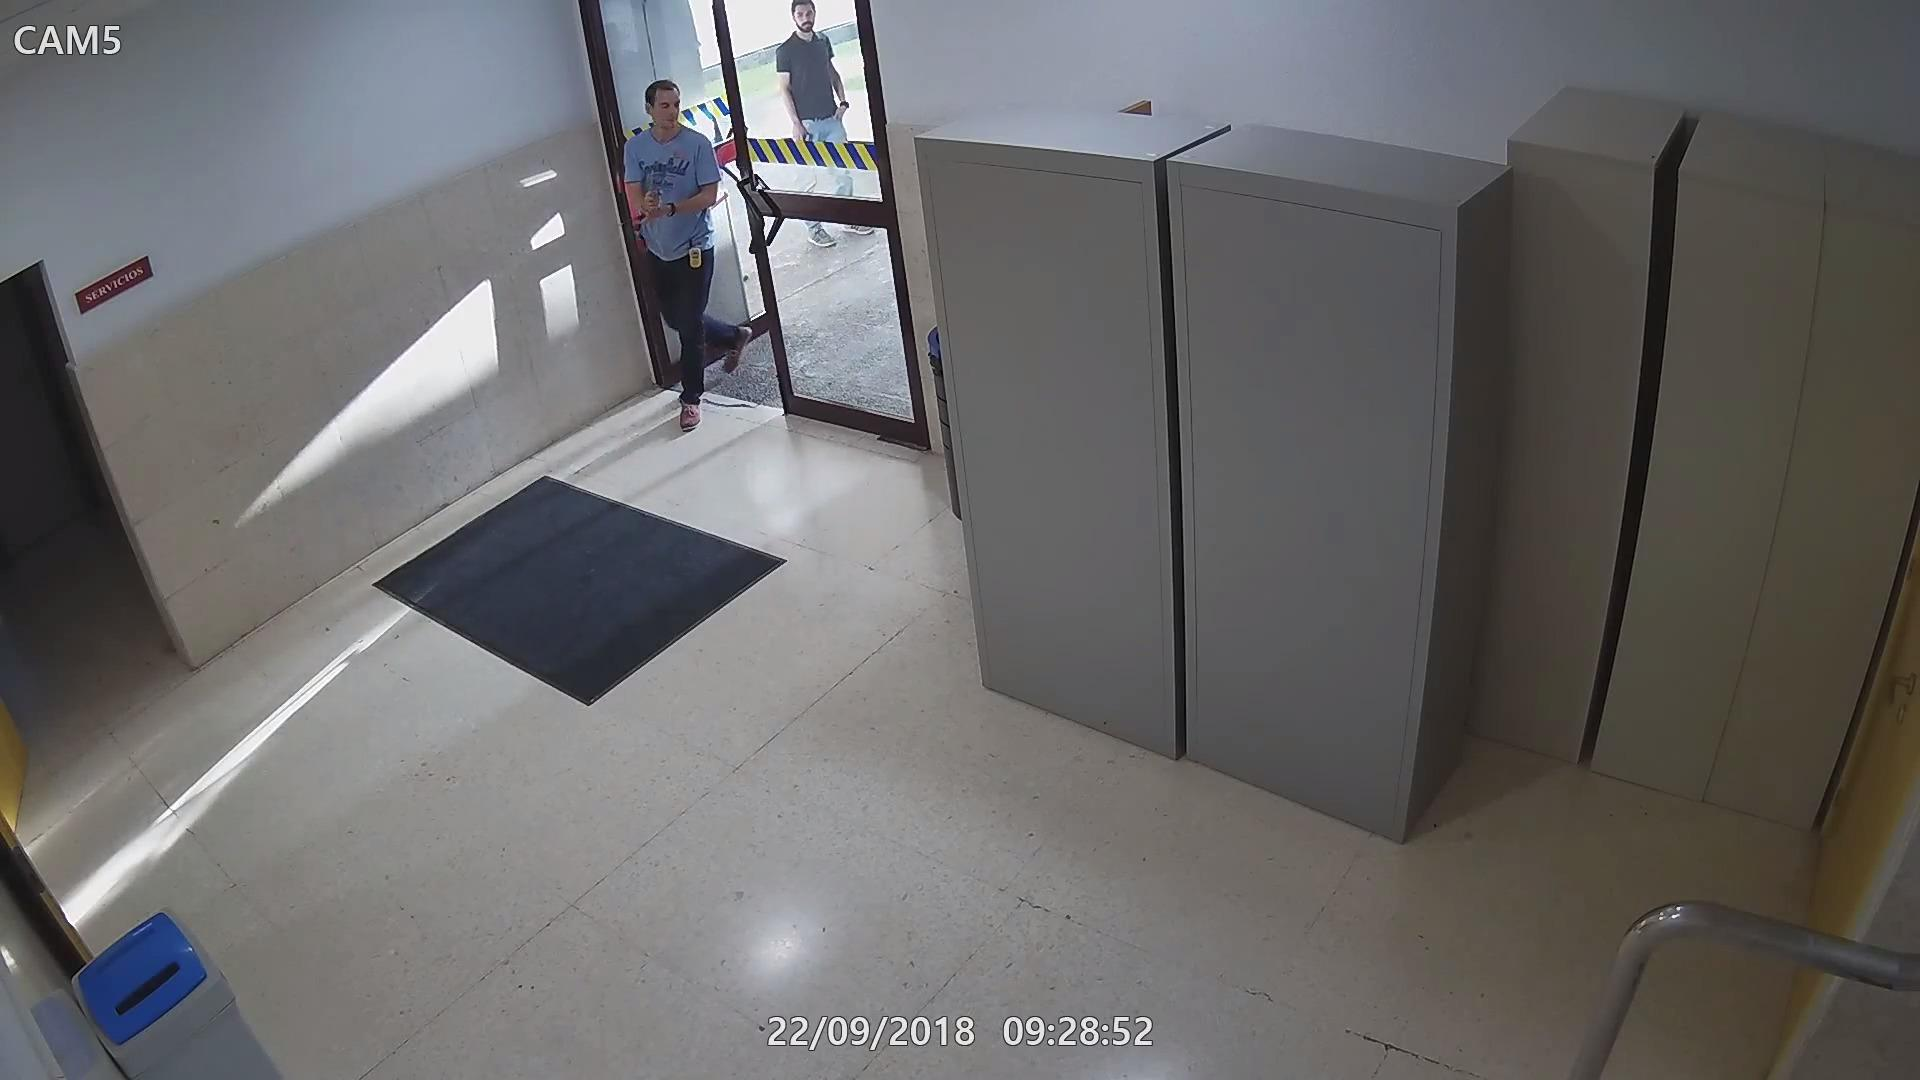Handgun: (637, 171, 670, 212)
